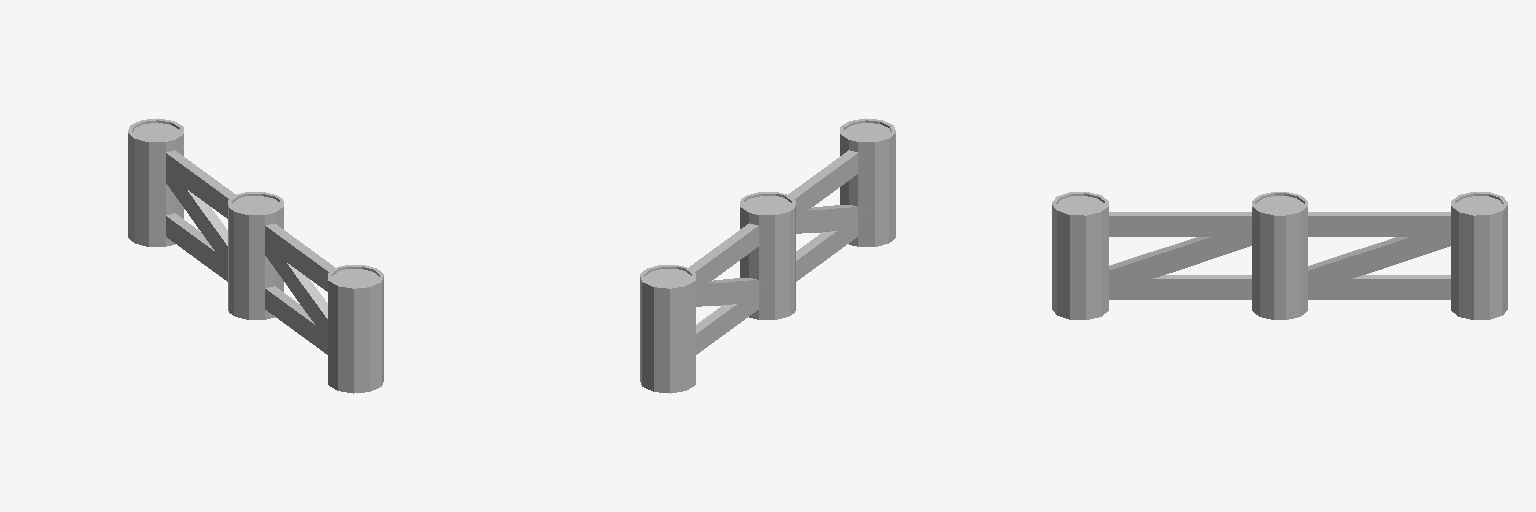
File: Fence.obj
3 views of the same model, side by side, from view 1: azimuth 30°, elevation 25°; view 2: azimuth 150°, elevation 25°; view 3: azimuth 270°, elevation 25° (orthographic).
Visible parts, largest first — view 1: Fence_Cylinder.006; view 2: Fence_Cylinder.006; view 3: Fence_Cylinder.006.
Part boxes in pixels (left/top/right/bottom): Fence_Cylinder.006: left=128, top=118, right=383, bottom=393; Fence_Cylinder.006: left=640, top=118, right=895, bottom=393; Fence_Cylinder.006: left=1052, top=192, right=1507, bottom=319.
Size of the model in its own units: 0.4904 by 1 by 3.95.